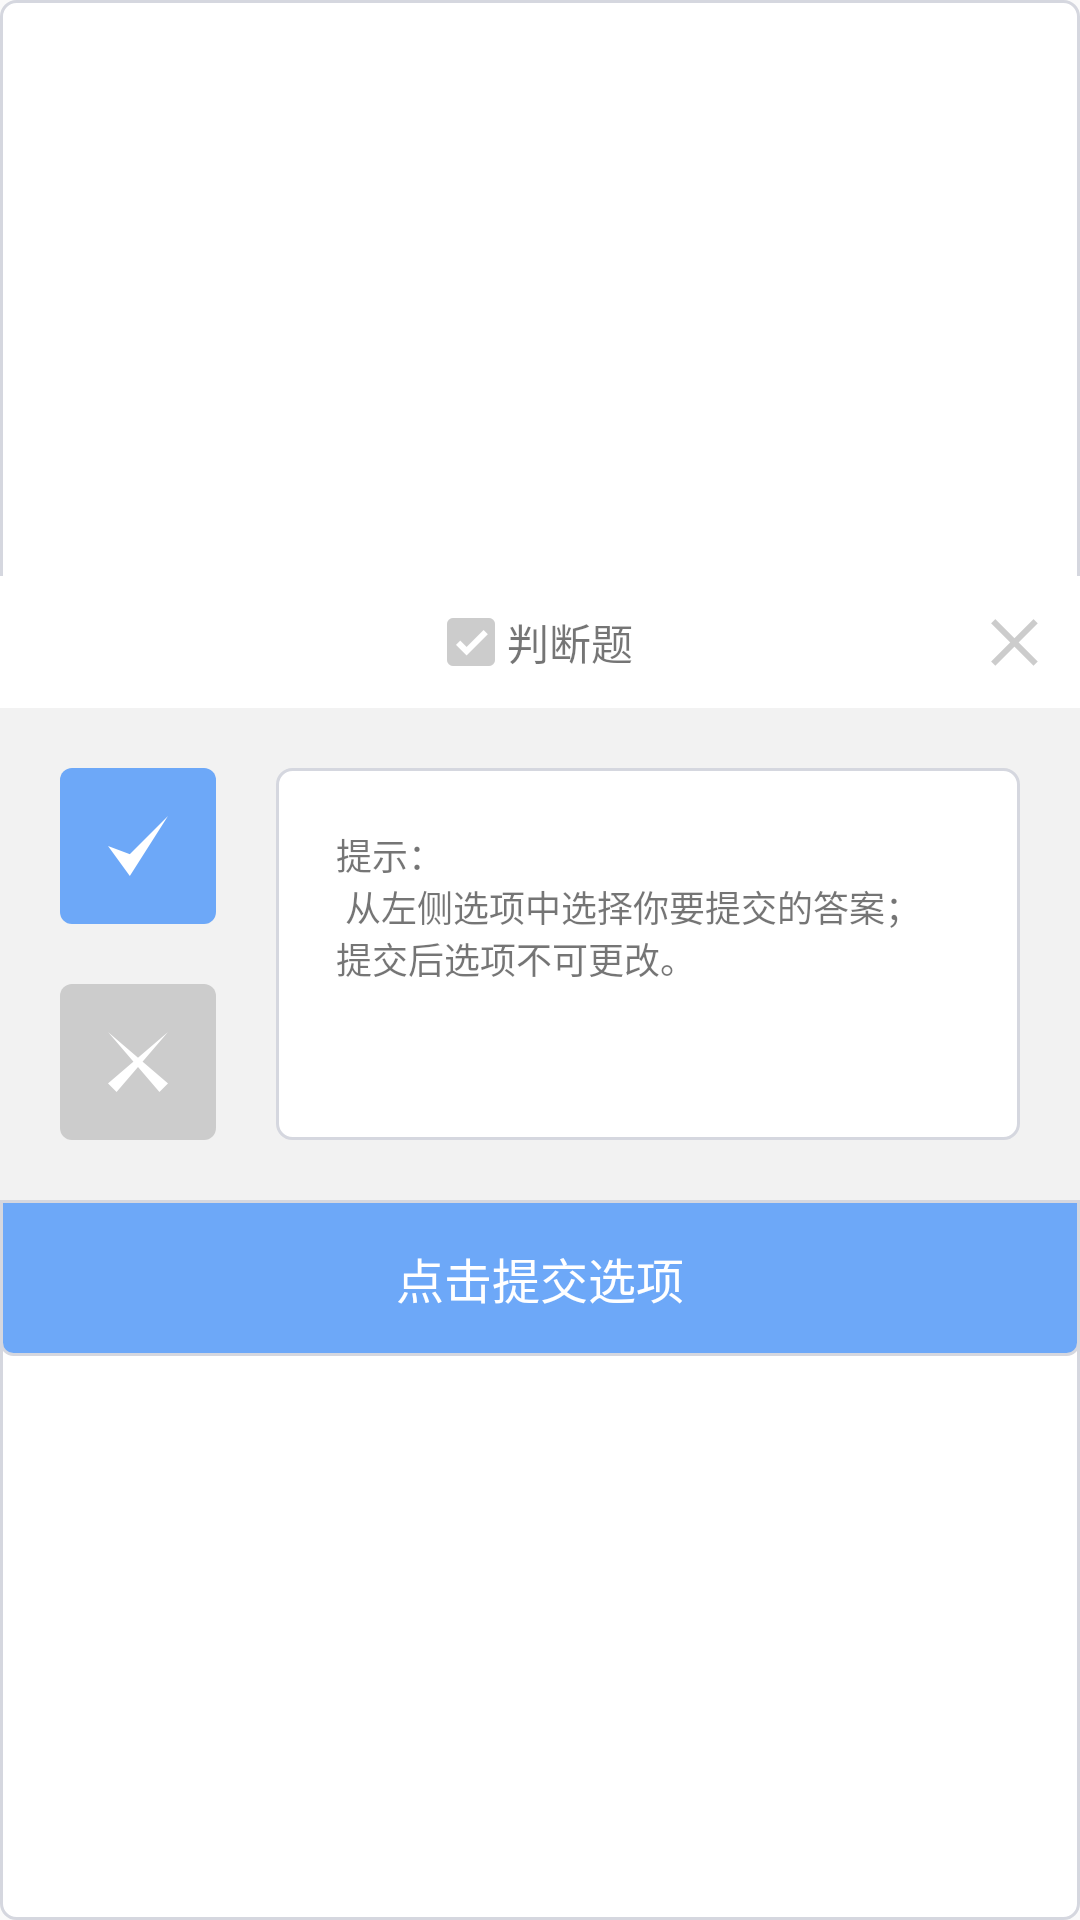

Screen size 1080 x 1920. Icon name, then its box in pixels as (x1, y1, x2, y2):
answer close: (991, 619, 1038, 666)
answer judge correct: (60, 768, 216, 924)
answer judge error: (60, 984, 216, 1140)
